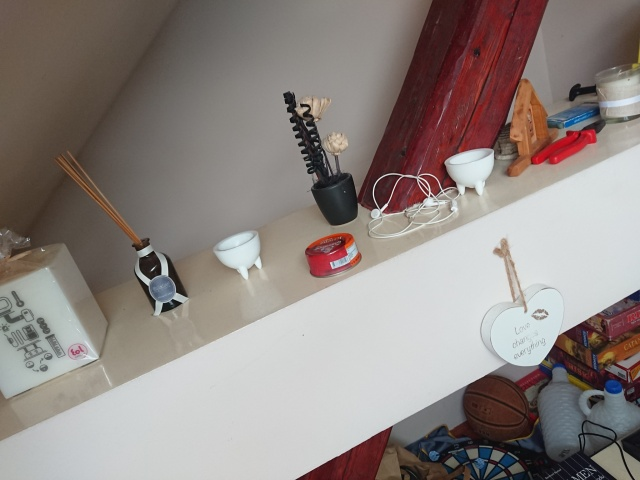Gavrilovic Pork Liver Pate 100g: (303, 230, 363, 279)
